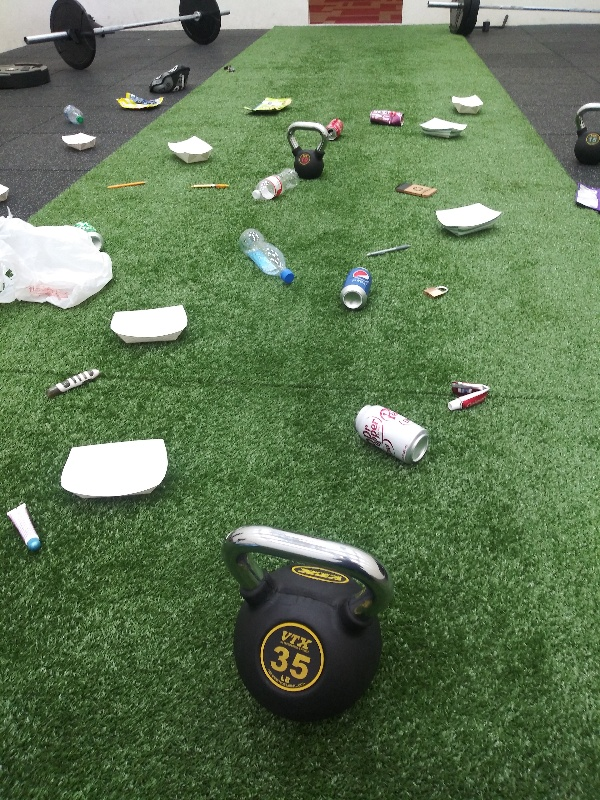bag: (111, 89, 166, 113), (571, 177, 600, 219), (239, 96, 296, 115)
bottle: (234, 225, 297, 289), (249, 164, 300, 202), (59, 102, 86, 129)
can: (352, 401, 434, 468), (337, 264, 376, 315), (72, 216, 110, 250), (365, 106, 407, 129), (326, 116, 350, 145)
plate: (57, 434, 177, 502), (110, 303, 193, 344), (429, 201, 507, 240), (412, 113, 471, 144), (163, 133, 218, 166), (446, 91, 489, 119), (60, 132, 100, 154)
